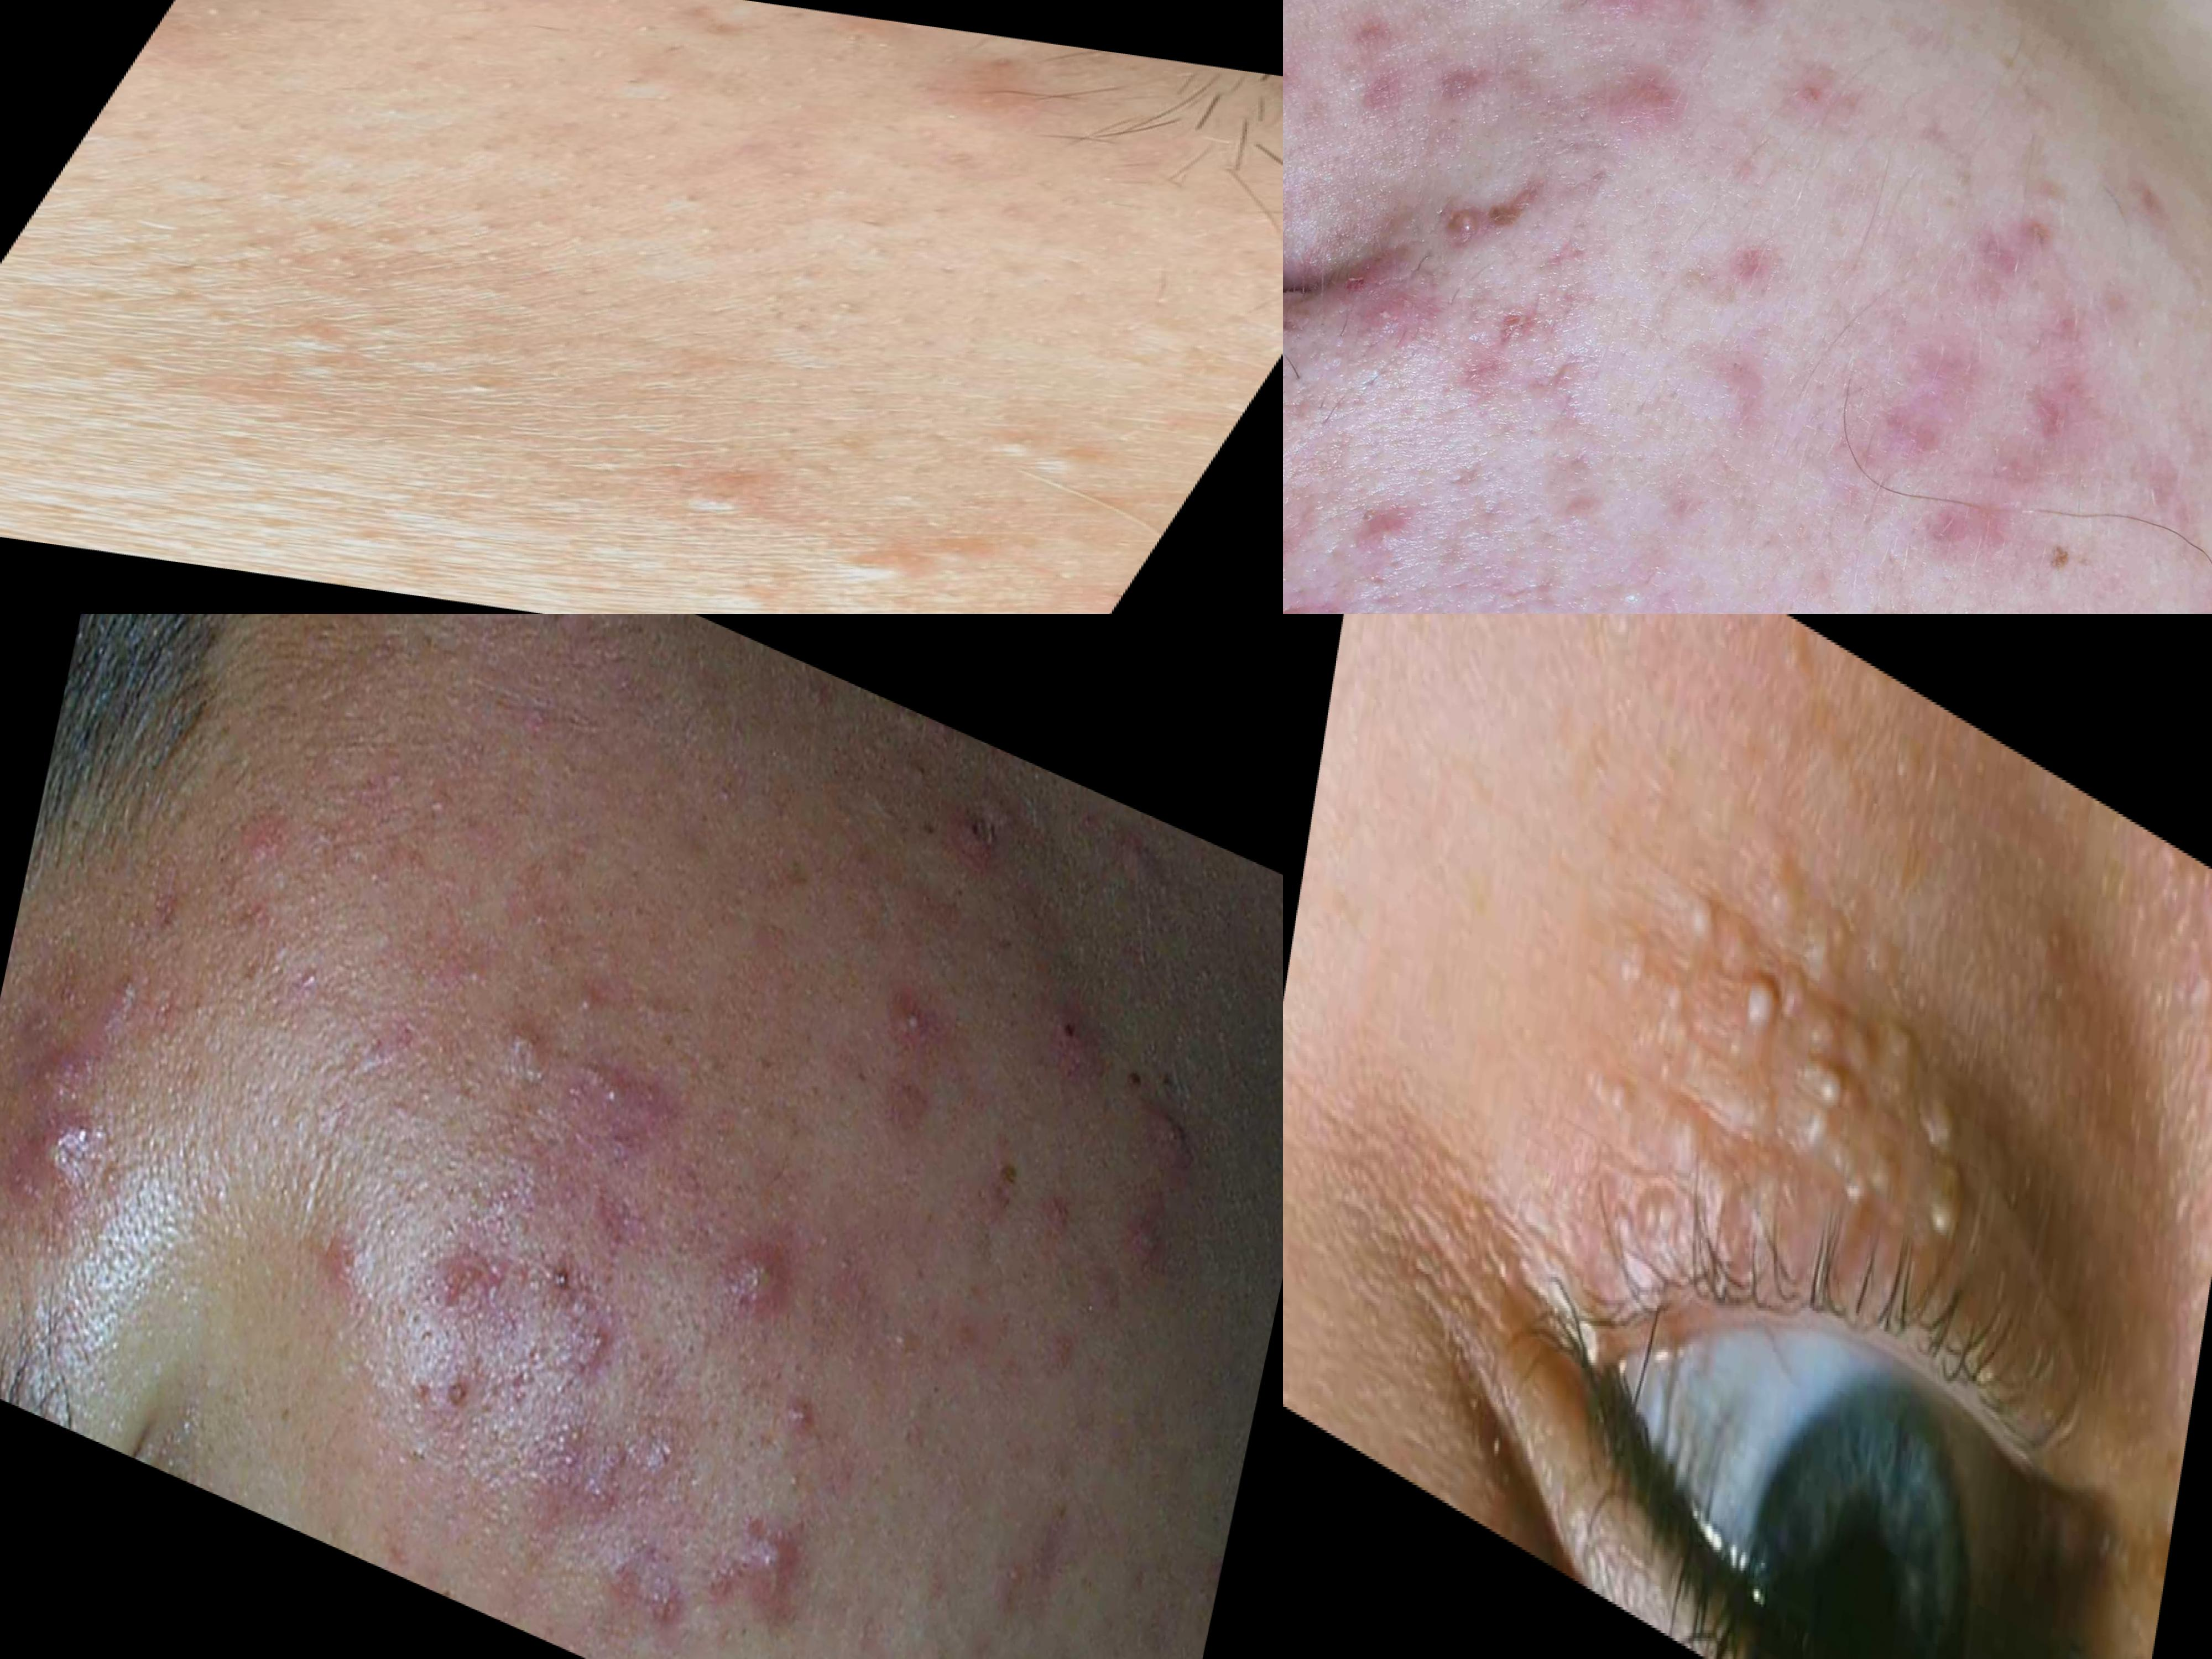blackhead: (594, 52, 732, 108), (890, 1223, 960, 1309), (911, 1354, 965, 1436)
cystic: (1137, 1070, 1204, 1169)
milium: (1594, 917, 1705, 1100), (1735, 943, 1797, 1068), (1578, 1054, 1648, 1145), (1797, 1046, 1851, 1154), (1622, 1168, 1688, 1255), (1914, 1171, 1970, 1249)
papular: (1571, 35, 1712, 171), (1536, 0, 1777, 68), (1531, 568, 1742, 615)
purulent: (1322, 464, 1472, 587), (1432, 162, 1531, 279), (1348, 263, 1428, 373), (777, 1361, 824, 1446), (895, 999, 946, 1065), (878, 1305, 925, 1375)
sebo-crystan-conglo: (0, 1028, 122, 1251), (601, 1493, 725, 1659), (712, 1190, 810, 1335), (745, 1504, 826, 1645)
syringoma: (1656, 1089, 1810, 1249), (1749, 824, 1867, 999), (1864, 993, 1935, 1133)
whitehead: (662, 451, 841, 535), (812, 547, 972, 606), (235, 312, 378, 375), (974, 446, 1132, 488)
